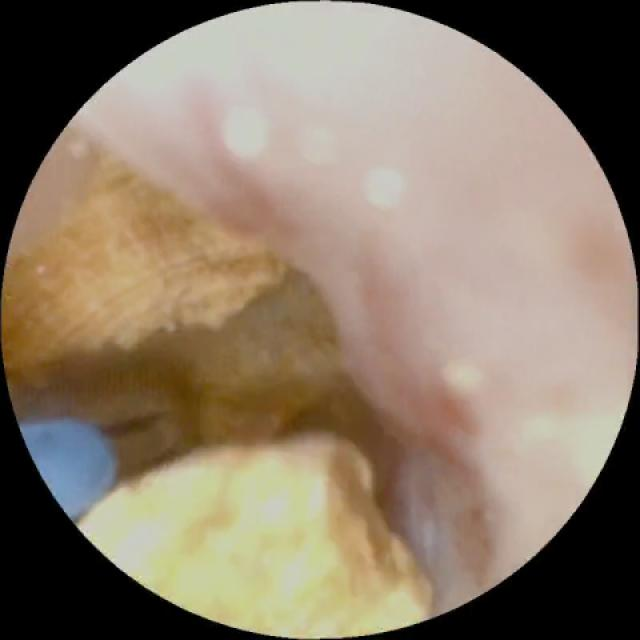fiber: (26, 424, 112, 514)
stone: (7, 160, 428, 628)
